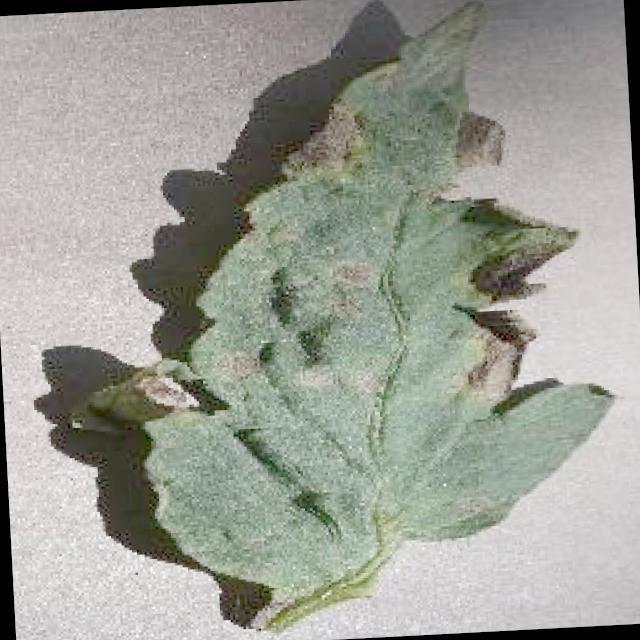Tomato Early blight leaf: (118, 0, 623, 621)
